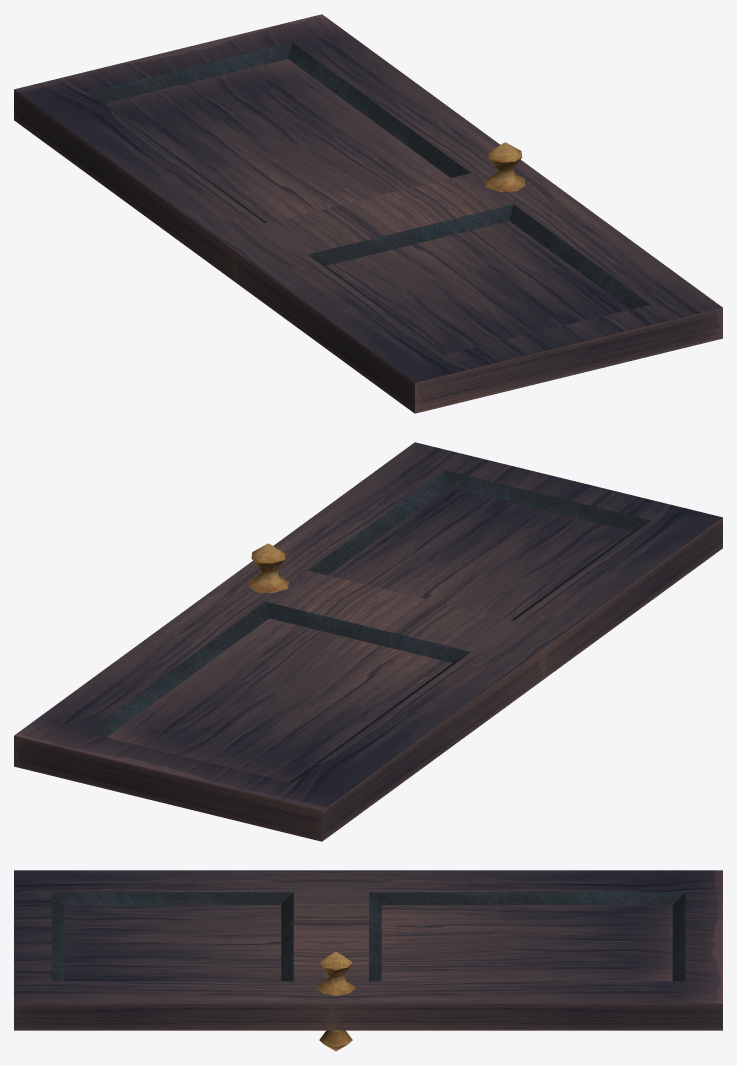
The model's file is Door_C.fbx.
3 renders of one model, top to bottom at view 1: azimuth 30°, elevation 25°; view 2: azimuth 150°, elevation 25°; view 3: azimuth 270°, elevation 25°, orthographic. The views are drawn at different scales.
Visible parts, largest first — view 1: Door_C; view 2: Door_C; view 3: Door_C.
Part boxes in pixels (x1=…): Door_C: x1=14, y1=14, x2=722, y2=413; Door_C: x1=14, y1=442, x2=722, y2=841; Door_C: x1=14, y1=870, x2=722, y2=1051.
Size of the model in its own units: 18.3 by 6.42 by 41.26.
